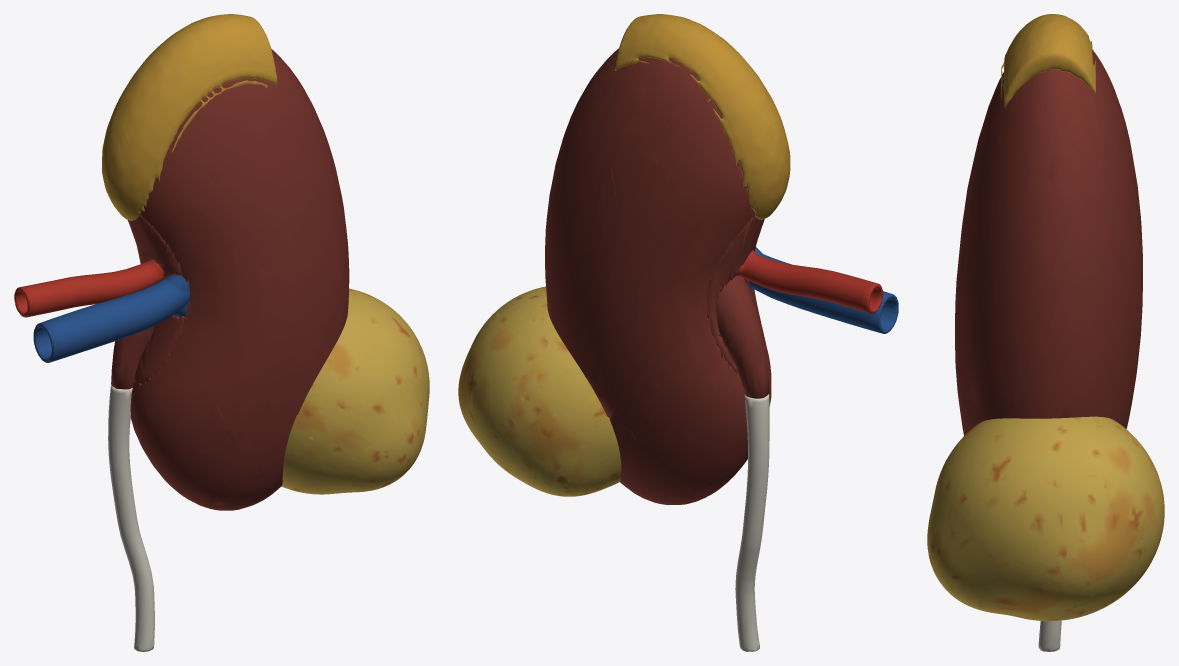
The model's file is kidney_aml.glb.
3 renders of one model, left to right at view 1: azimuth 30°, elevation 25°; view 2: azimuth 150°, elevation 25°; view 3: azimuth 270°, elevation 25°, orthographic. The views are drawn at different scales.
Parts seen in each view (by area): view 1: kidney_body, aml, adrenal_gland, renal_vein, ureter, renal_artery; view 2: kidney_body, aml, adrenal_gland, ureter, renal_artery, renal_vein; view 3: kidney_body, aml, adrenal_gland, ureter.
Boxes of the visible parts, left/top/right/bottom form: kidney_body: left=111, top=49, right=349, bottom=510; aml: left=281, top=288, right=429, bottom=494; adrenal_gland: left=102, top=14, right=277, bottom=220; renal_vein: left=33, top=275, right=190, bottom=362; ureter: left=108, top=385, right=154, bottom=651; renal_artery: left=14, top=259, right=165, bottom=317; kidney_body: left=545, top=48, right=771, bottom=504; aml: left=458, top=286, right=621, bottom=496; adrenal_gland: left=615, top=14, right=790, bottom=219; ureter: left=735, top=394, right=769, bottom=651; renal_artery: left=737, top=250, right=883, bottom=313; renal_vein: left=749, top=247, right=898, bottom=333; kidney_body: left=955, top=50, right=1142, bottom=435; aml: left=927, top=416, right=1164, bottom=621; adrenal_gland: left=1001, top=14, right=1095, bottom=107; ureter: left=1038, top=620, right=1061, bottom=651.
Size of the model in its own units: 9.76 by 14.23 by 4.61.
